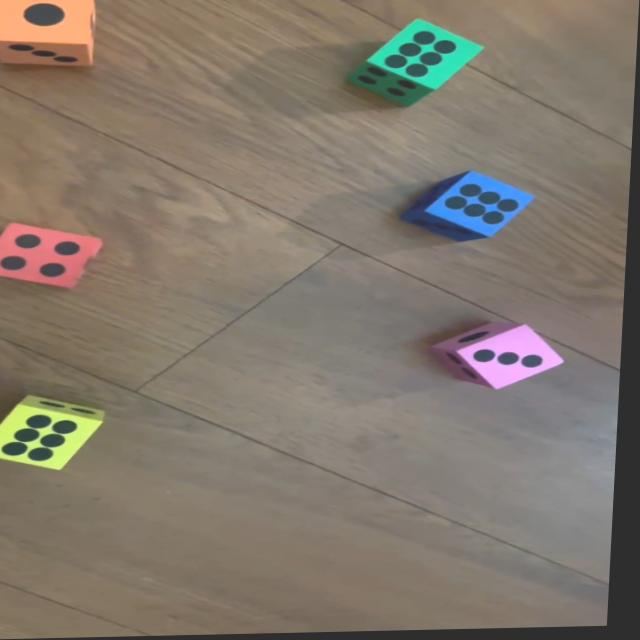blue_block: (403, 172, 540, 245)
red_block: (0, 222, 110, 292)
